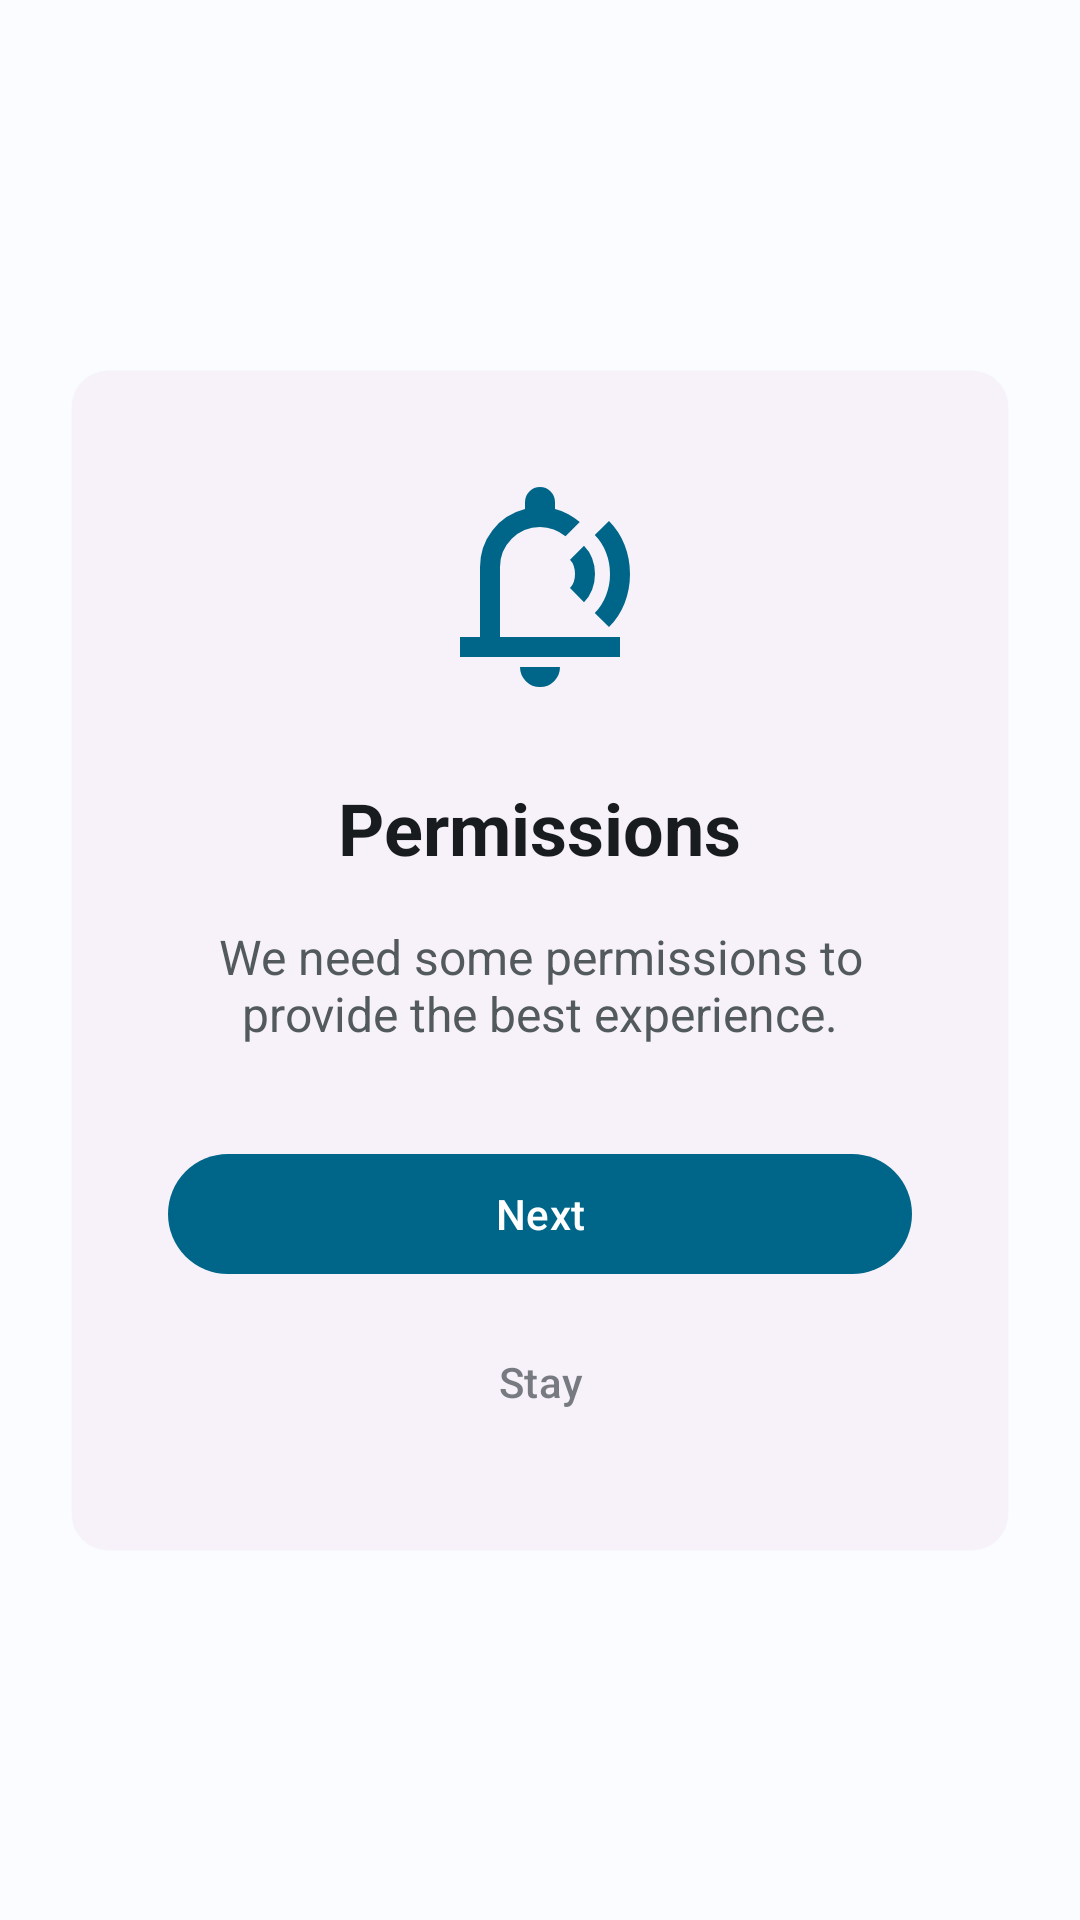

Icons on this 1080w x 1920h Android screen, each with the point to tap as (x=x, y=y):
notifications: (x=545, y=587)
